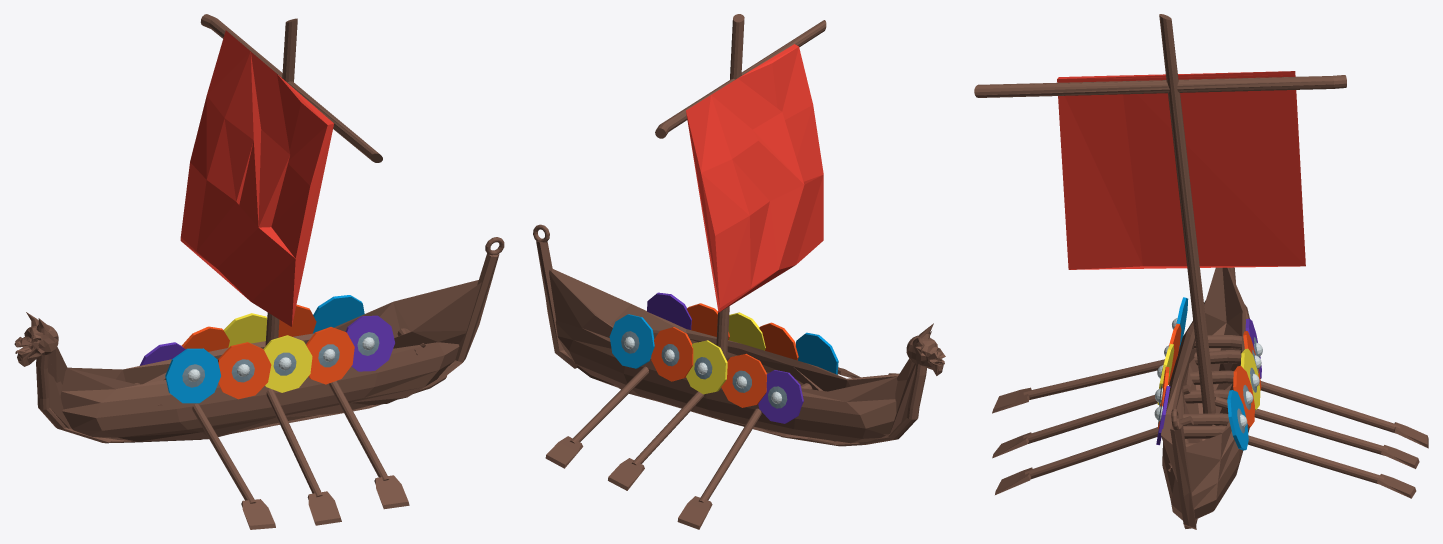
File: scene_12ZJajW9PT.glb
3 renders of one model, left to right at view 1: azimuth 30°, elevation 25°; view 2: azimuth 150°, elevation 25°; view 3: azimuth 270°, elevation 25°, orthographic. The views are drawn at different scales.
Parts seen in each view (by area): view 1: group2002274319, group518927434, group472631980, group1901140673, group478748147, group1158489583, group992083522, group1600575302, group24712887, group2026429748, group1089353868, group1256735957 (+1 smaller); view 2: group2002274319, group518927434, group1901140673, group472631980, group1729484566, group1600575302, group756015156, group1088418143, group1256735957, group24712887, group2026429748, group1089353868 (+1 smaller); view 3: group2002274319, group518927434, group1256735957, group24712887, group1901140673, group992083522, group1158489583, group1088418143, group756015156, group1729484566, group478748147, group472631980 (+2 smaller).
Boxes of the visible parts, left/top/right/bottom form: group2002274319: left=180, top=30, right=333, bottom=326; group518927434: left=60, top=280, right=481, bottom=441; group472631980: left=165, top=315, right=394, bottom=403; group1901140673: left=139, top=295, right=364, bottom=365; group478748147: left=266, top=389, right=341, bottom=525; group1158489583: left=329, top=381, right=409, bottom=509; group992083522: left=192, top=403, right=275, bottom=529; group1600575302: left=36, top=354, right=446, bottom=443; group24712887: left=200, top=14, right=382, bottom=162; group2026429748: left=438, top=250, right=499, bottom=380; group1089353868: left=14, top=312, right=58, bottom=366; group1256735957: left=265, top=18, right=297, bottom=346; group2002274319: left=686, top=44, right=823, bottom=312; group518927434: left=549, top=268, right=897, bottom=443; group1901140673: left=609, top=314, right=803, bottom=423; group472631980: left=647, top=292, right=838, bottom=374; group1729484566: left=677, top=408, right=761, bottom=529; group1600575302: left=577, top=364, right=926, bottom=446; group756015156: left=545, top=366, right=648, bottom=468; group1088418143: left=608, top=391, right=703, bottom=490; group1256735957: left=716, top=14, right=744, bottom=360; group24712887: left=655, top=20, right=826, bottom=138; group2026429748: left=536, top=241, right=577, bottom=368; group1089353868: left=906, top=323, right=945, bottom=375; group2002274319: left=1057, top=71, right=1305, bottom=269; group518927434: left=1161, top=267, right=1249, bottom=520; group1256735957: left=1159, top=14, right=1215, bottom=413; group24712887: left=974, top=75, right=1346, bottom=97; group1901140673: left=1227, top=318, right=1262, bottom=450; group992083522: left=992, top=355, right=1194, bottom=413; group1158489583: left=995, top=416, right=1193, bottom=494; group1088418143: left=1214, top=396, right=1419, bottom=468; group756015156: left=1212, top=424, right=1416, bottom=498; group1729484566: left=1260, top=381, right=1428, bottom=448; group478748147: left=992, top=384, right=1190, bottom=458; group472631980: left=1154, top=297, right=1188, bottom=445.
Size of the model in its own units: 1.83 by 1.66 by 1.47.
